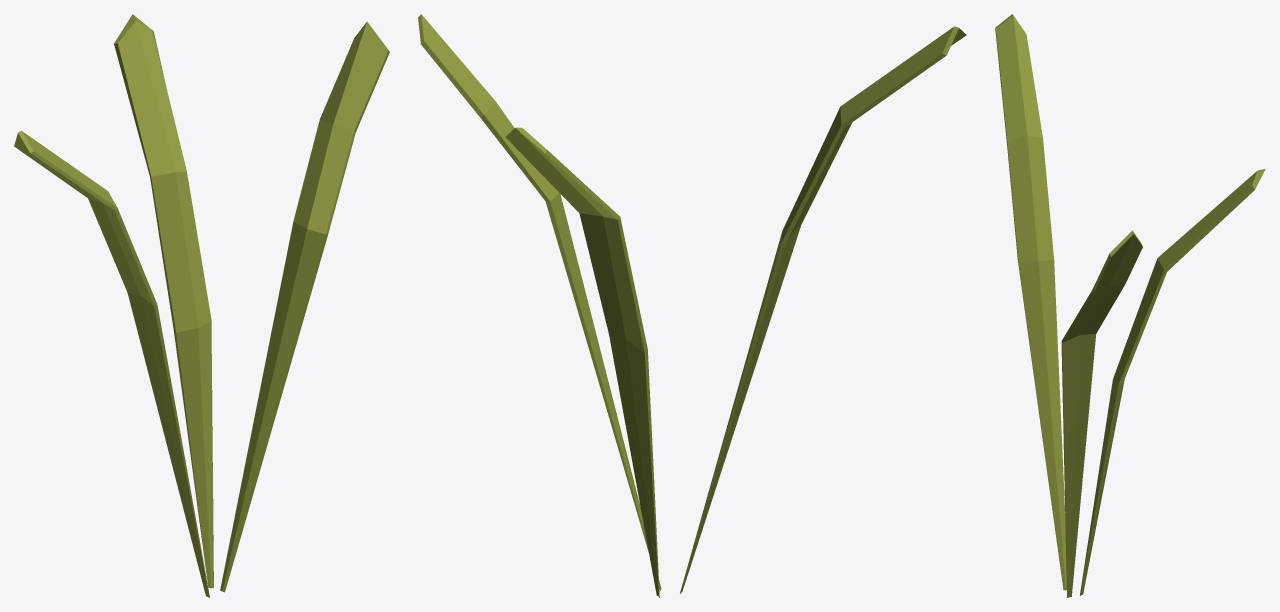
Rendered from Reed_5.fbx.
3 views of the same model, side by side, from view 1: azimuth 30°, elevation 25°; view 2: azimuth 150°, elevation 25°; view 3: azimuth 270°, elevation 25° (orthographic). The views are drawn at different scales.
Visible parts, largest first — view 1: Reed_5; view 2: Reed_5; view 3: Reed_5.
Part boxes in pixels (box(x1,y1,x2,y2)): Reed_5: box(14, 14, 389, 597); Reed_5: box(418, 14, 966, 597); Reed_5: box(995, 14, 1265, 597).
Bounding box in the file's own units: 0.0154 × 0.0186 × 0.00946.
